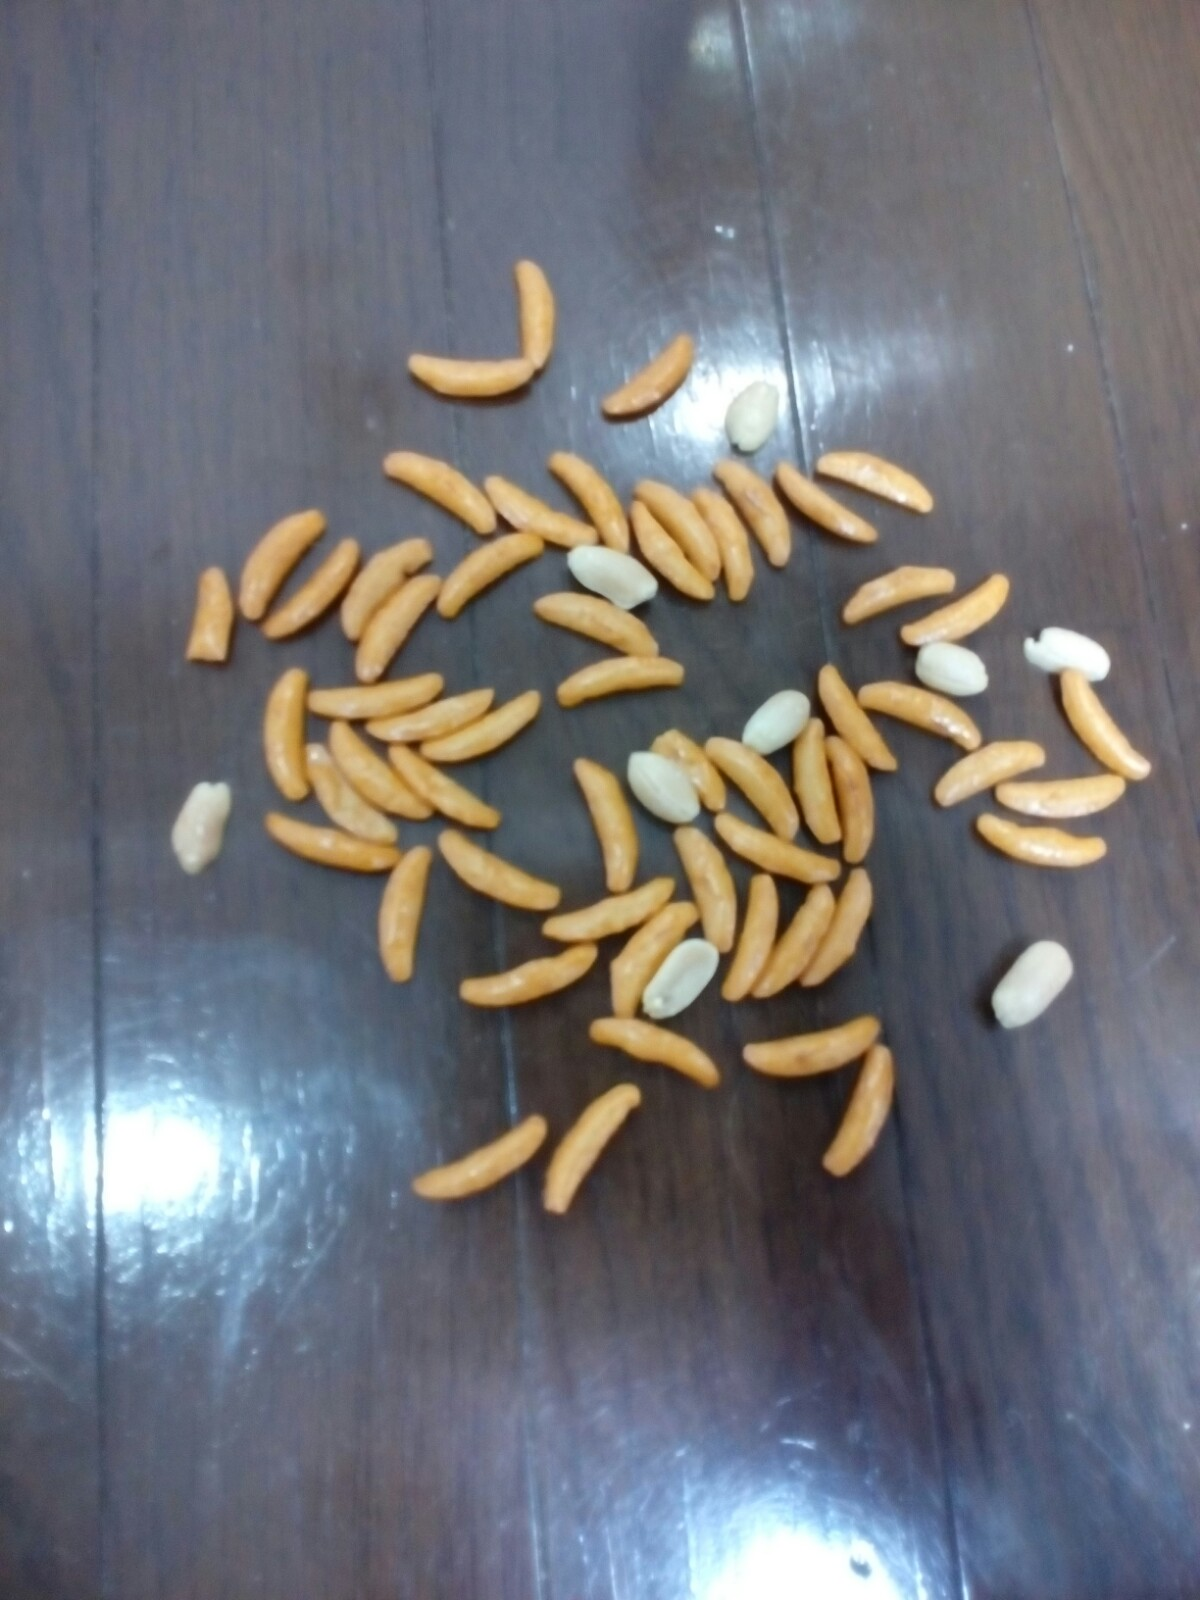peanut: (984, 929, 1079, 1041), (609, 740, 707, 829), (635, 931, 724, 1027), (562, 542, 671, 619), (163, 779, 245, 876), (1018, 614, 1122, 689), (735, 678, 811, 761), (909, 637, 1000, 704), (724, 374, 782, 455)
